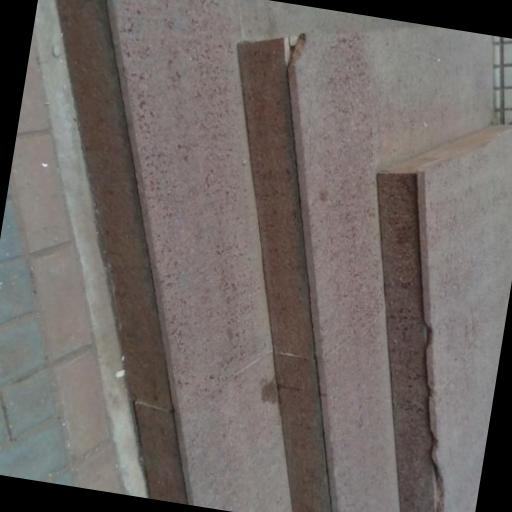stairs: (57, 0, 511, 511), (377, 125, 511, 511)
